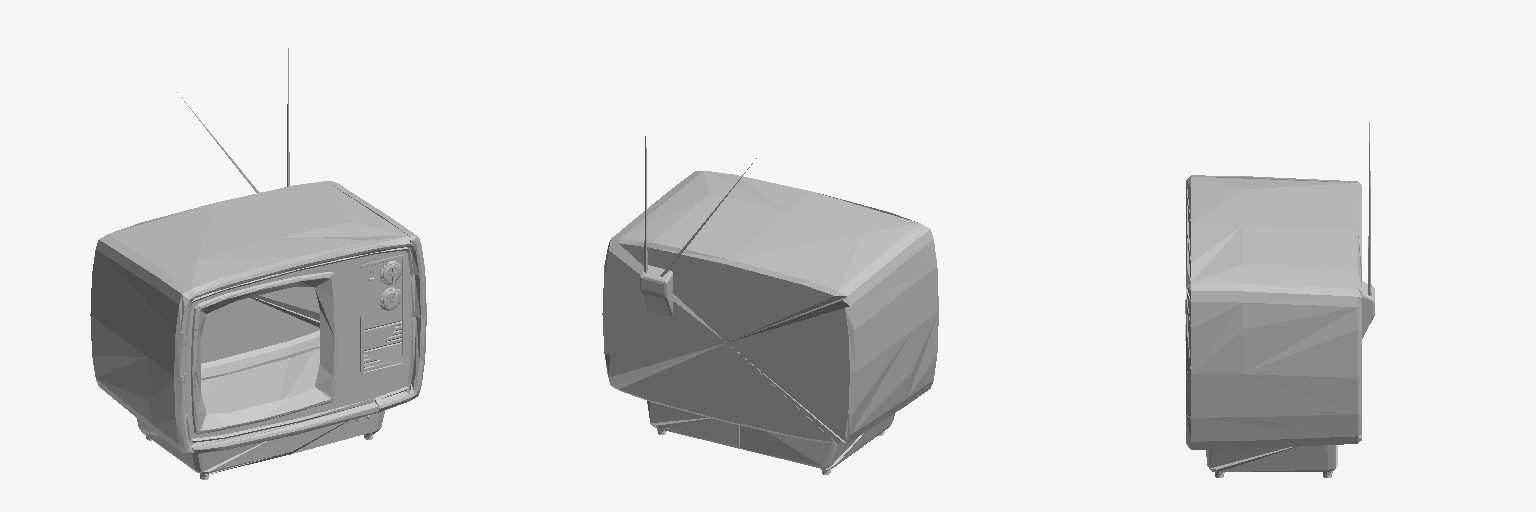
The model's file is tv_set.obj.
3 renders of one model, left to right at view 1: azimuth 30°, elevation 25°; view 2: azimuth 150°, elevation 25°; view 3: azimuth 270°, elevation 25°, orthographic.
Parts seen in each view (by area): view 1: TV; view 2: TV; view 3: TV.
Boxes of the visible parts, x1,y1,x2,y2 form: TV: [90, 48, 426, 479]; TV: [602, 136, 938, 474]; TV: [1185, 122, 1374, 477].
Size of the model in its own units: 2.8 by 3.81 by 1.83.